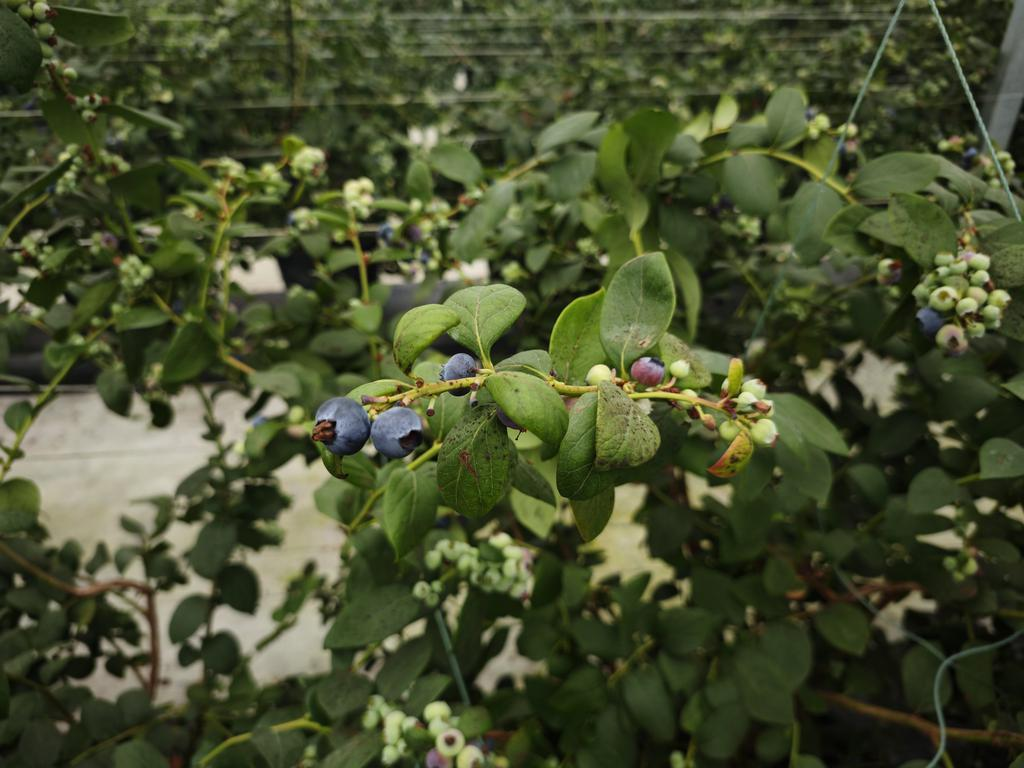RipeBlueBerry: (311, 395, 372, 458), (371, 404, 428, 462)
Semi-RipeBlueBerry: (630, 355, 667, 387)
